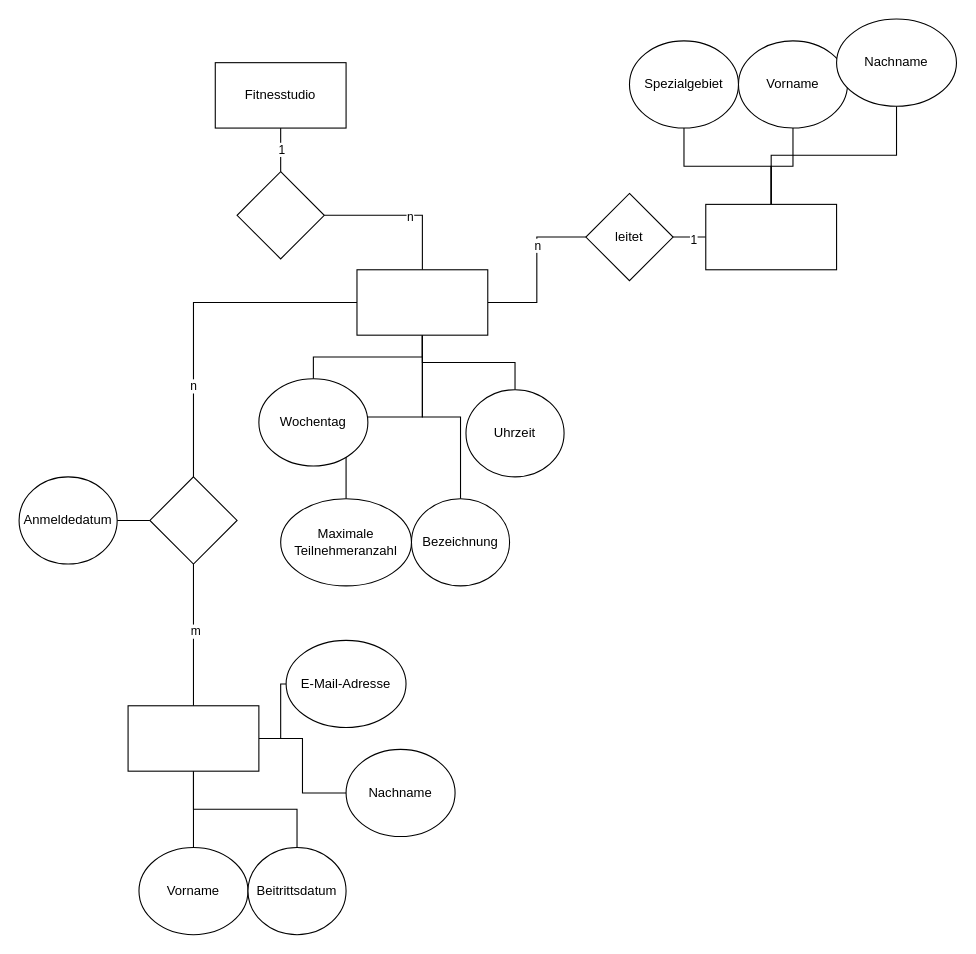
Image size: 976x954. Some labels were removed from this diagram. The shapes that lost their labels are listed below. From the top down, each one's centre as x and y in pixels, then its label:
pixel 280 215: bietet an
pixel 771 236: Trainer
pixel 422 302: Kurs
pixel 193 520: besuchen
pixel 193 738: Mitglied
